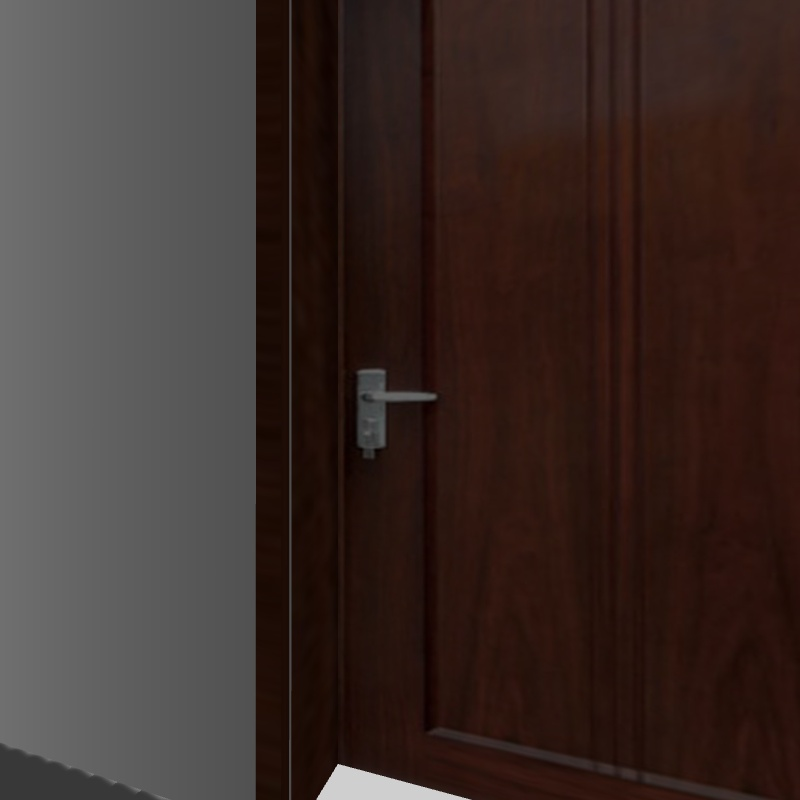handle: (333, 359, 450, 473)
